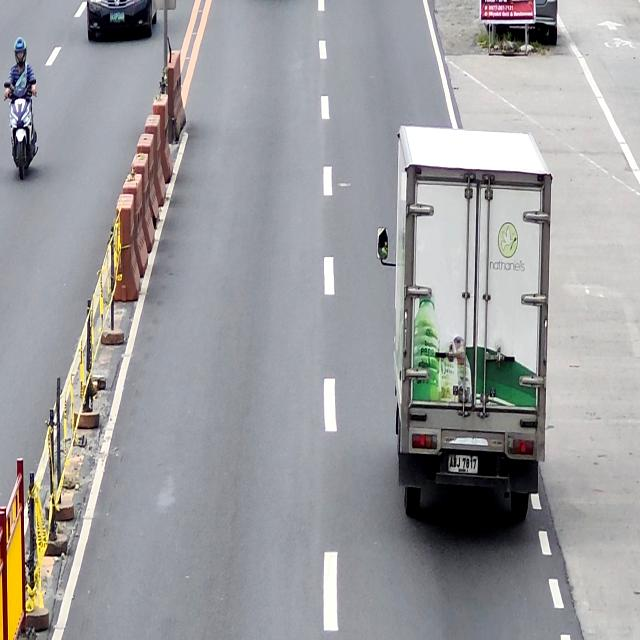License-Plate: (448, 455, 478, 476)
Truck: (376, 124, 554, 520)
